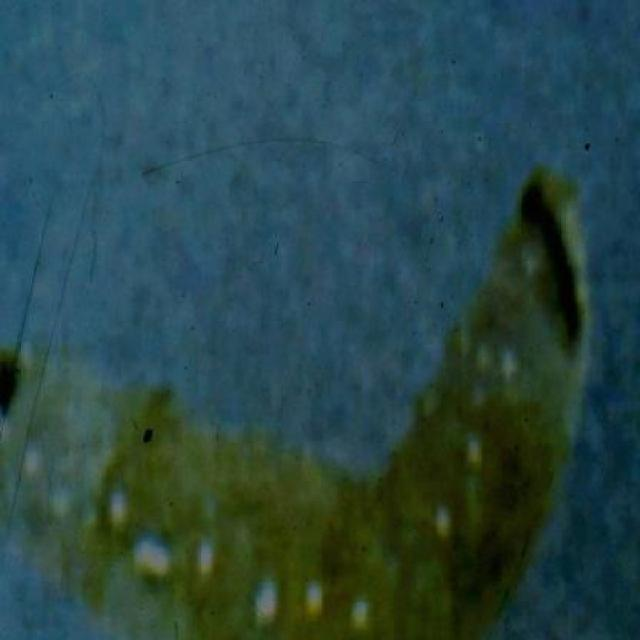whorl-maggot: (1, 156, 601, 640)
